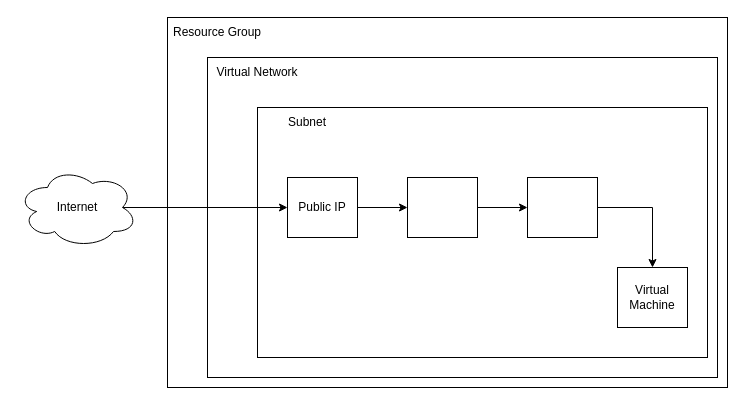
This 745x405 diagram has some shape labels left out. Here are the shapes that lost their labels. From the top down, the box of each, then its label:
(406, 176, 478, 238): Network Security Group
(526, 176, 598, 238): Network Interface Card
